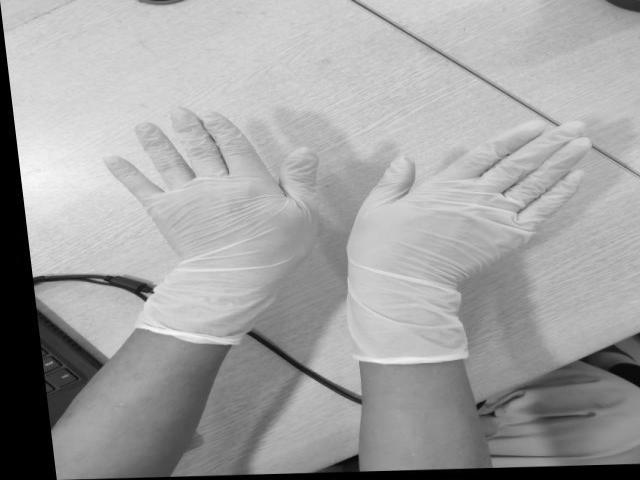gloved: (352, 122, 594, 302), (103, 111, 320, 282)
